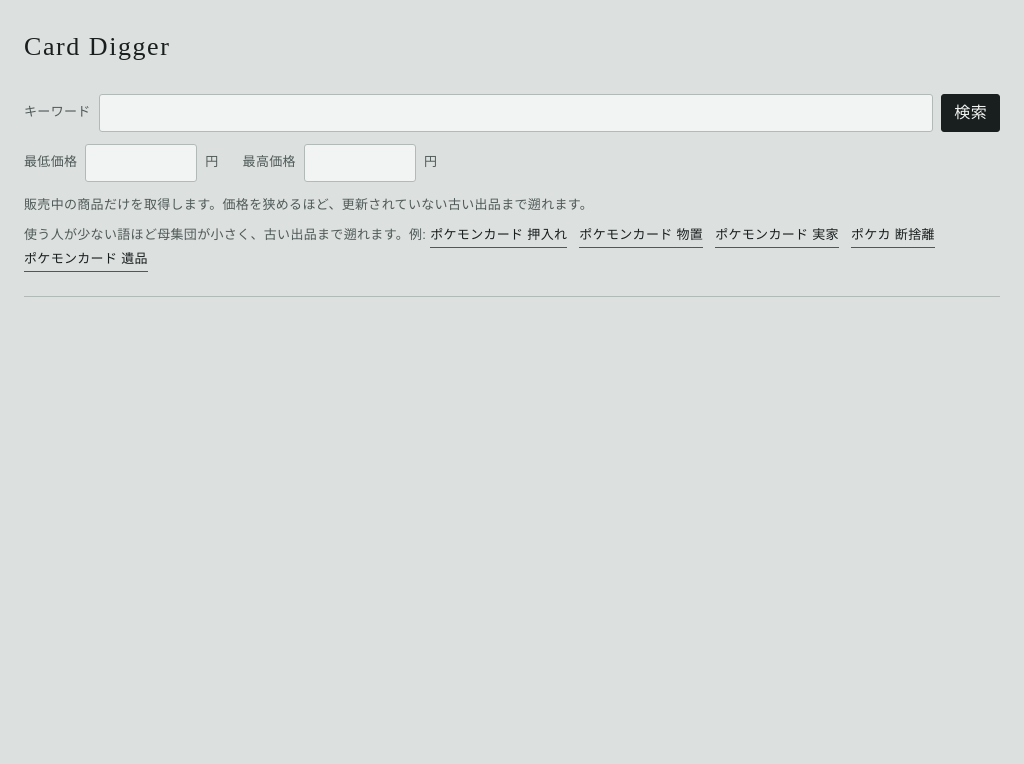
Test case: success › says nothing was missed only when the results actually ran out
Type "ポケカ" into the field labelled "キーワード" at (516,112), box [99, 94, 933, 132]
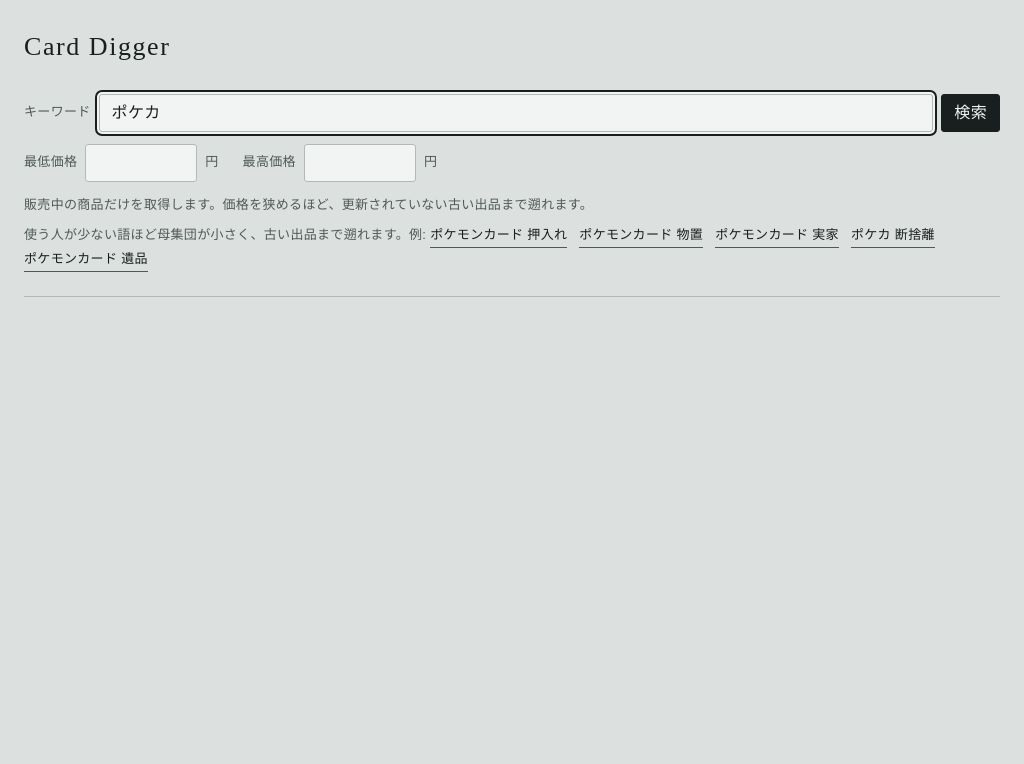
Click the button "検索" at (971,112), box [941, 94, 1000, 132]
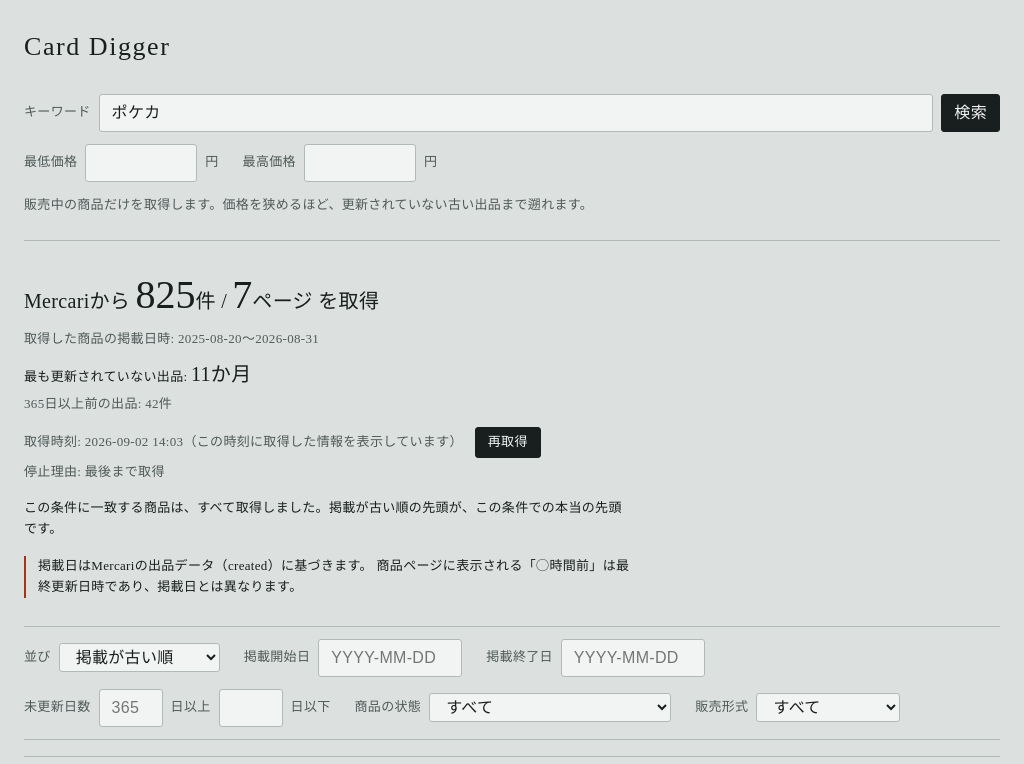
Check: the element named "取得範囲" does not show "まだ続きがあります", box [24, 241, 632, 626]
Check: the element named "取得範囲" is shown, box [24, 241, 632, 626]
Check: the element named "取得範囲" shows "すべて取得しました", box [24, 500, 329, 515]
